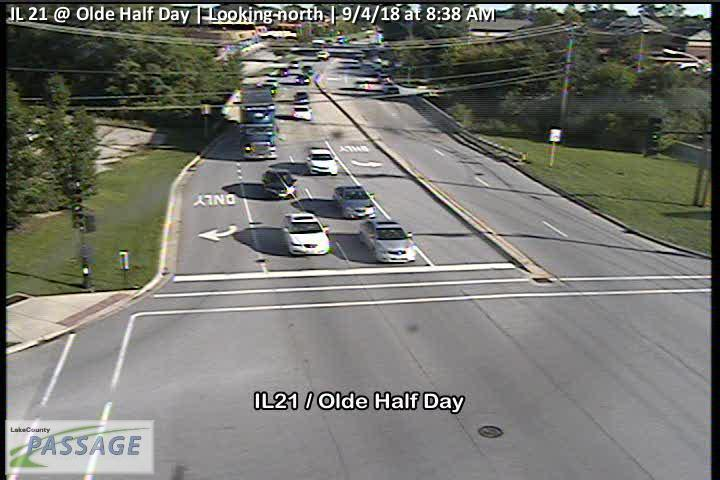Sedan: (358, 219, 416, 263), (281, 212, 331, 256), (334, 184, 377, 218), (262, 168, 298, 199), (305, 149, 338, 176), (291, 104, 312, 121)
Truck: (237, 83, 277, 160)
